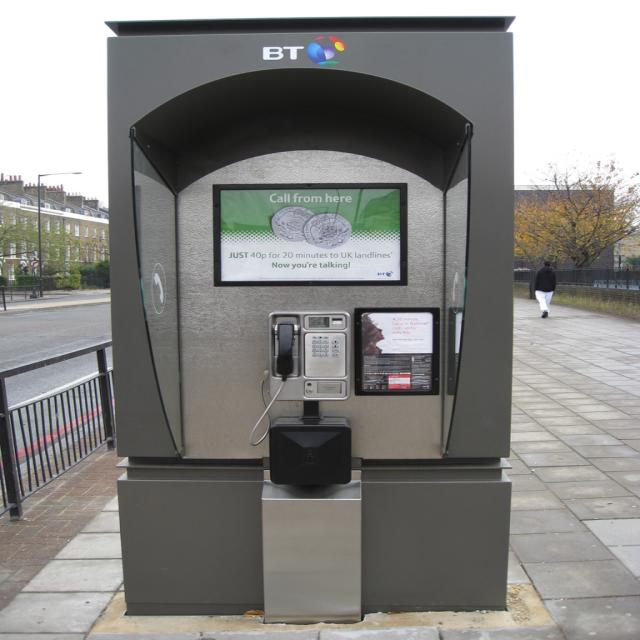Coin: (303, 213, 351, 249), (270, 206, 310, 239)
